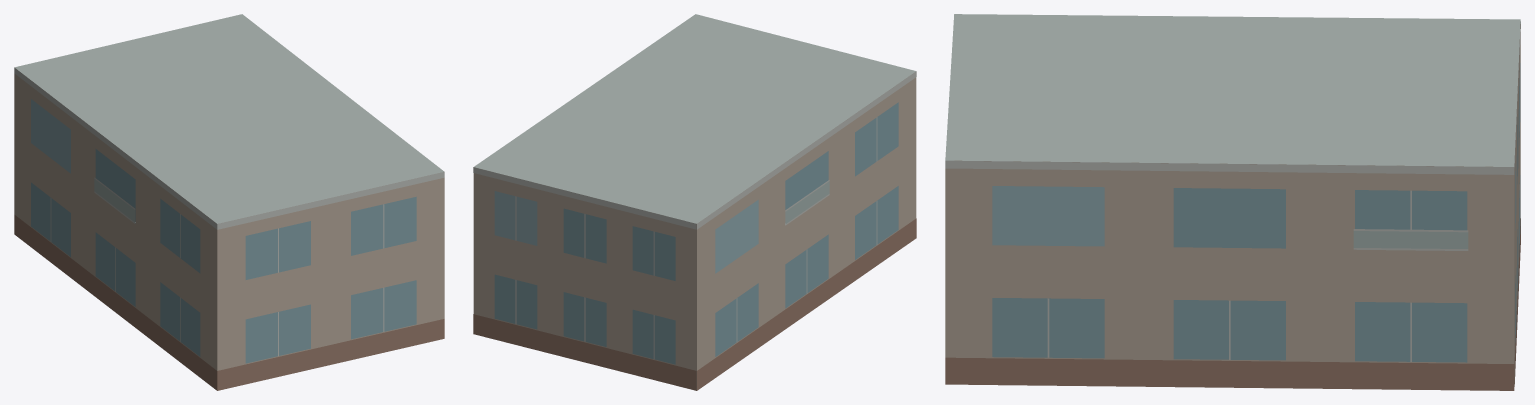
Rendered from survey-upis-32959078.glb.
3 views of the same model, side by side, from view 1: azimuth 30°, elevation 25°; view 2: azimuth 150°, elevation 25°; view 3: azimuth 270°, elevation 25° (orthographic). The views are drawn at different scales.
Visible parts, largest first — view 1: survey-upis-32959078.tmp; view 2: survey-upis-32959078.tmp; view 3: survey-upis-32959078.tmp.
Boxes of the visible parts, x1,y1,x2,y2 form: survey-upis-32959078.tmp: (14,14,444,390); survey-upis-32959078.tmp: (473,14,916,390); survey-upis-32959078.tmp: (945,14,1520,390).
Size of the model in its own units: 10.12 by 6.9 by 16.09.
